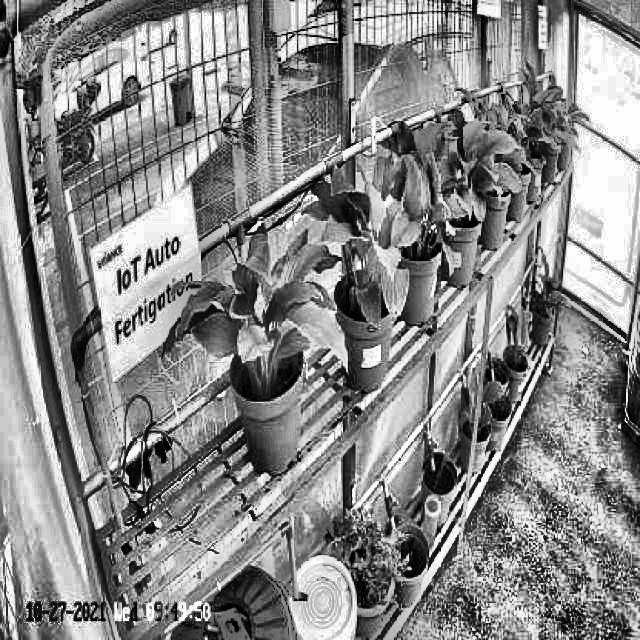plants: (162, 220, 348, 380), (302, 164, 408, 322), (368, 124, 460, 278), (409, 106, 522, 222)
